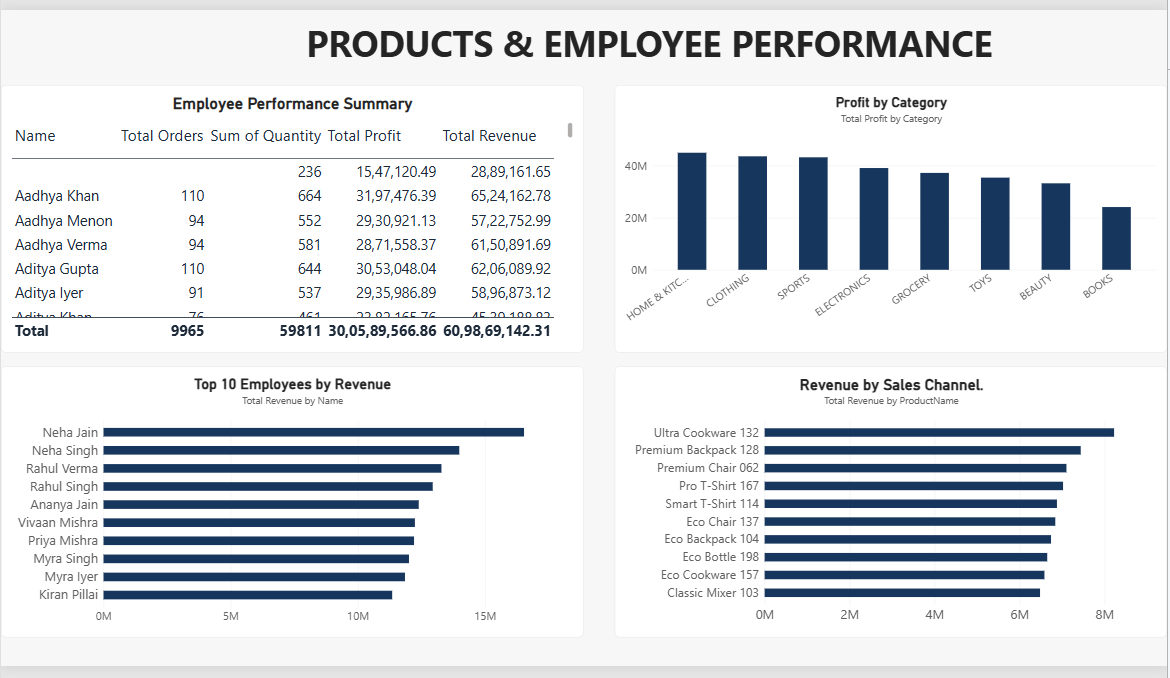

Layout of this report page (visuals, bound fields, positions):
{"tool":"powerbi","page":{"name":"Products & Employees.","canvas":[1920,1080],"ordinal":1},"visuals":[{"type":"clusteredBarChart","title":"Revenue by Sales Channel.","fields":{"Category":["products.ProductName"],"Y":["order_items.Total Revenue"]},"box":[1010.6,586.6,909.8,446.7],"z":0},{"type":"clusteredColumnChart","title":"Profit by Category","fields":{"Category":["products.Category"],"Y":["order_items.Total Profit"]},"box":[1010.6,123.5,909.8,440.5],"z":1000},{"type":"clusteredBarChart","title":"Top 10 Employees by Revenue","fields":{"Category":["employees.Name"],"Y":["order_items.Total Revenue"]},"box":[0,586.6,959.2,446.7],"z":2000},{"type":"textbox","box":[154.4,0,1712.5,123.5],"z":3000},{"type":"tableEx","title":"Employee Performance Summary","fields":{"Values":["employees.Name","order_items.Total Orders","Sum(order_items.Quantity)","order_items.Total Profit","order_items.Total Revenue"]},"box":[0,123.5,959.2,440.5],"z":3001}]}

Visuals, with their boxes in screenshot pixels (x1, y1, x2, y2), scaled from the page's 1920x1080 canvas onto the 1170x678 screenshot:
"Revenue by Sales Channel." clusteredBarChart: (x1=616, y1=368, x2=1169, y2=649)
"Profit by Category" clusteredColumnChart: (x1=616, y1=78, x2=1169, y2=354)
"Top 10 Employees by Revenue" clusteredBarChart: (x1=0, y1=368, x2=585, y2=649)
textbox: (x1=94, y1=0, x2=1138, y2=78)
"Employee Performance Summary" tableEx: (x1=0, y1=78, x2=585, y2=354)
